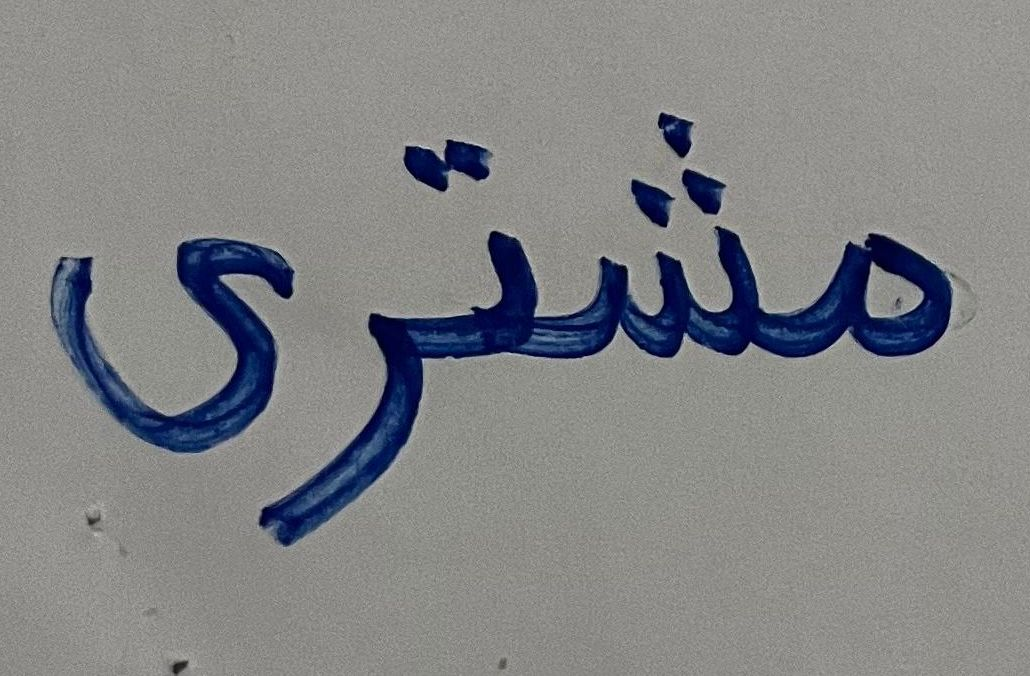meem: (793, 154, 999, 435)
reh: (301, 278, 415, 567)
sheen: (562, 65, 787, 405)
teh: (419, 114, 549, 380)
yeh: (14, 155, 297, 490)
